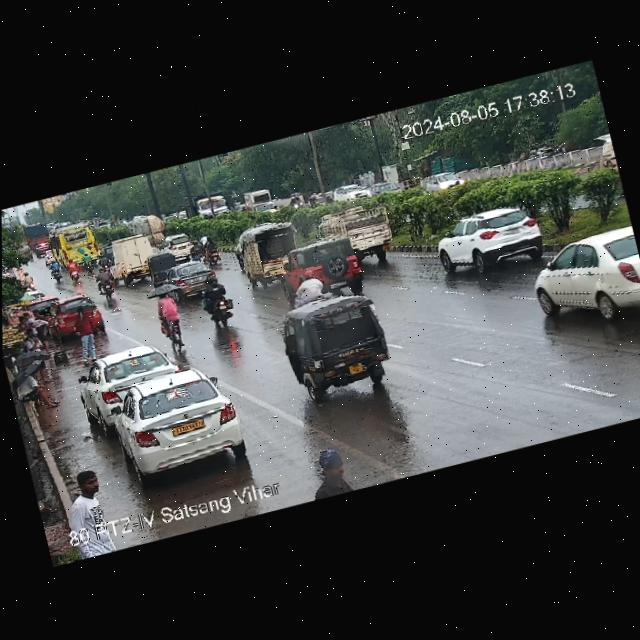bus: (49, 219, 103, 276)
car: (107, 363, 250, 485), (272, 288, 401, 410), (525, 223, 640, 334), (425, 197, 553, 285), (76, 338, 182, 421), (273, 230, 368, 303), (313, 198, 400, 273), (236, 219, 302, 290), (163, 255, 221, 300), (141, 248, 181, 287), (421, 165, 466, 195), (331, 177, 373, 205), (160, 231, 196, 260), (370, 178, 405, 199)
motorcycle: (195, 276, 241, 333), (151, 286, 184, 348), (186, 231, 223, 270), (91, 266, 120, 299), (66, 258, 86, 283), (80, 249, 97, 277), (20, 270, 39, 293), (49, 260, 64, 283)
person: (10, 304, 60, 388), (55, 463, 115, 528), (7, 348, 61, 418), (56, 298, 109, 365)
truck: (100, 231, 168, 287), (192, 189, 232, 223), (21, 217, 53, 256)
